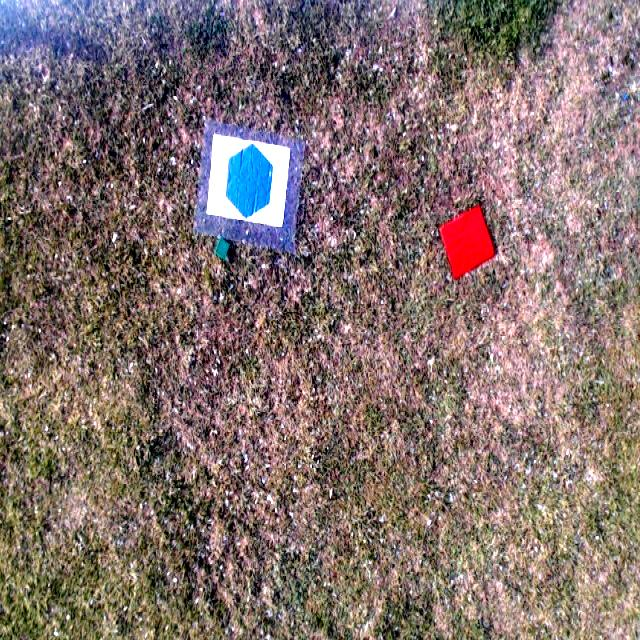blue_hexagon: (226, 141, 274, 220)
red_square: (441, 205, 495, 279)
